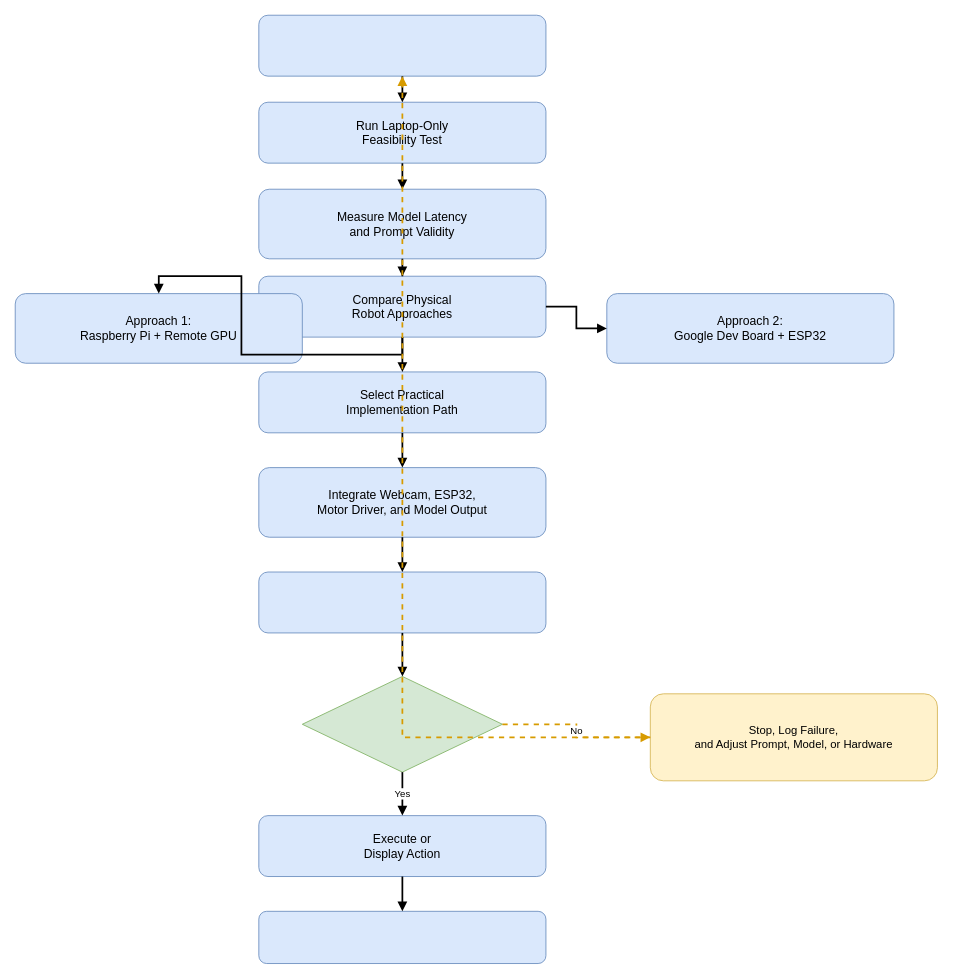
This 953x979 diagram has some shape labels left out. The shapes that lost their labels are listed below. From the top down, each one's box as (x1, y1, x2, y2) in pixels, then its label:
(258, 14, 546, 76): Define Action Set and Prompt Schema
(258, 571, 546, 633): Validate Action with Obstacle Status
(301, 676, 502, 772): Is output valid, fast, and safe?
(258, 910, 546, 964): Evaluate Scenario Result
